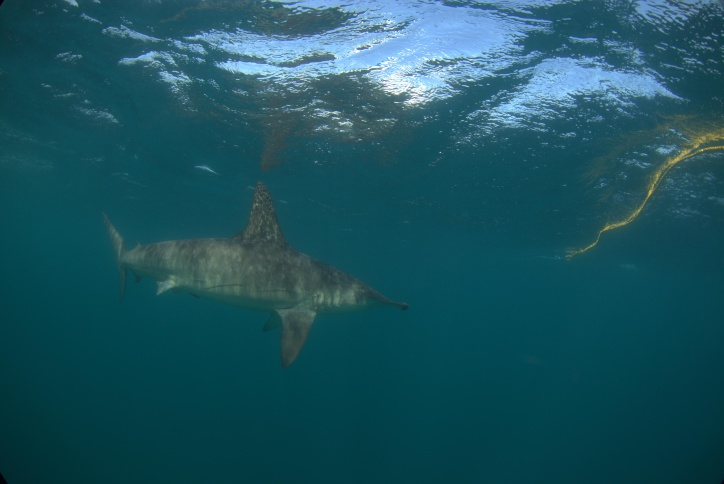Hammer: (80, 171, 420, 394)
